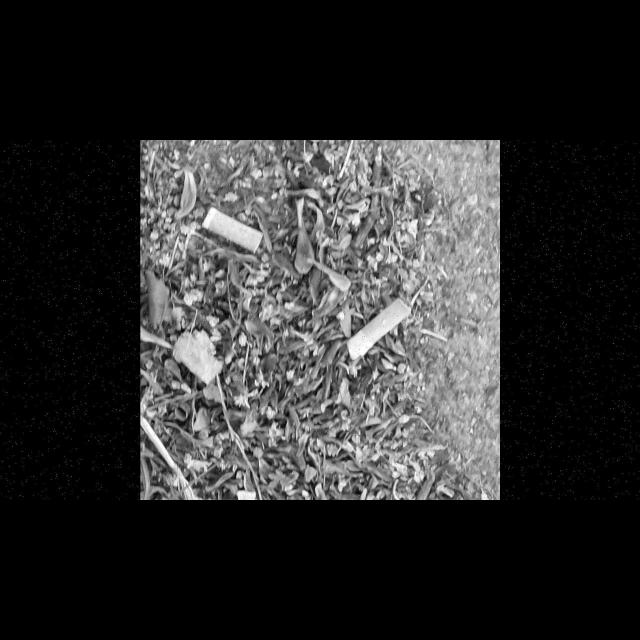cigarette: (345, 296, 411, 362), (200, 207, 264, 254)
